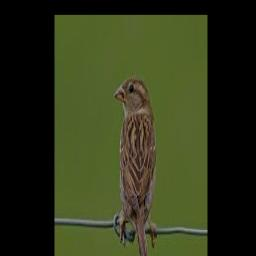Sparrow: (114, 75, 156, 256)
